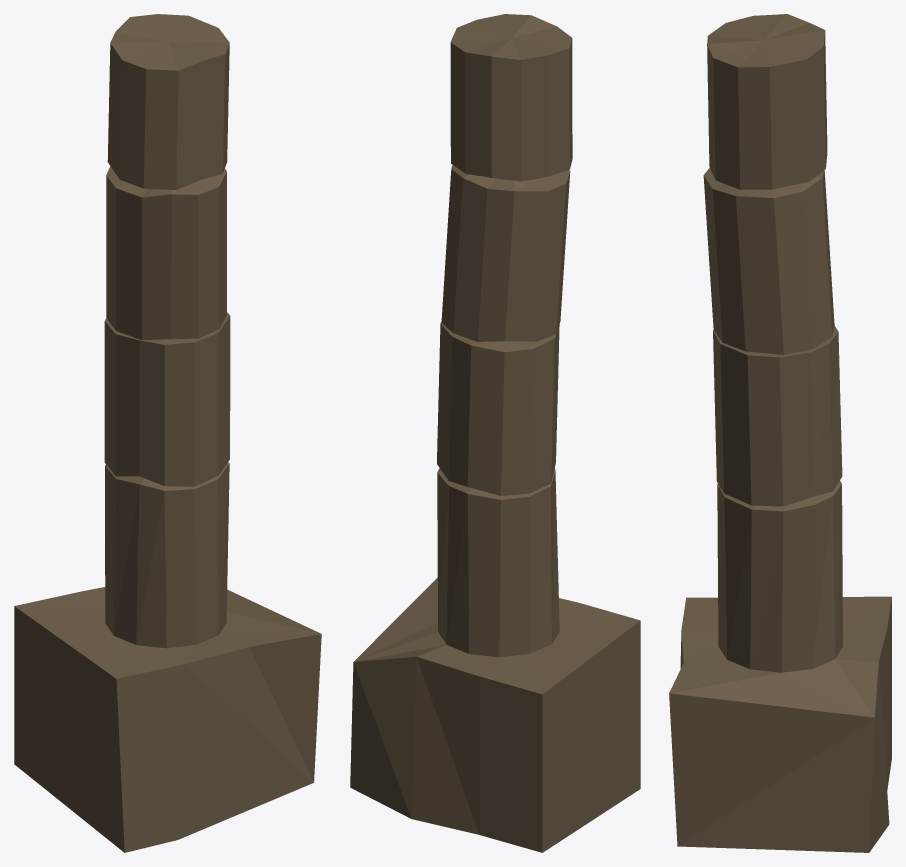
The model's file is ADDON_MAYA_PILLAR_01.OBJ.
3 renders of one model, left to right at view 1: azimuth 30°, elevation 25°; view 2: azimuth 150°, elevation 25°; view 3: azimuth 270°, elevation 25°, orthographic. The views are drawn at different scales.
Parts seen in each view (by area): view 1: ADDON_MAYA_PILLAR_01; view 2: ADDON_MAYA_PILLAR_01; view 3: ADDON_MAYA_PILLAR_01.
Boxes of the visible parts, x1,y1,x2,y2 form: ADDON_MAYA_PILLAR_01: (14,14,321,852); ADDON_MAYA_PILLAR_01: (350,14,640,852); ADDON_MAYA_PILLAR_01: (669,14,891,852).
Bounding box in the file's own units: 1.56 × 5.62 × 1.45.
